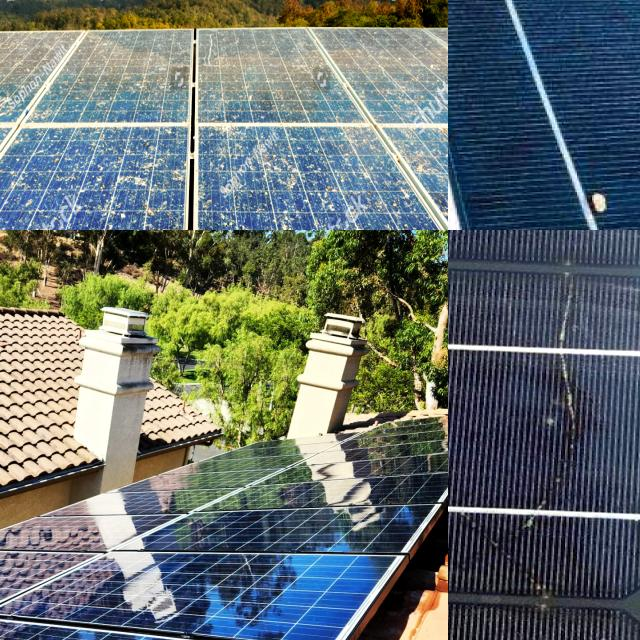bird: (126, 144, 186, 192), (341, 143, 386, 202), (259, 147, 312, 188), (404, 133, 447, 182), (2, 159, 48, 202), (0, 148, 36, 200), (68, 140, 109, 183), (206, 134, 240, 182), (240, 208, 281, 230), (140, 209, 177, 230)
crack: (102, 555, 366, 640), (148, 501, 426, 555), (198, 483, 444, 516), (0, 514, 183, 552), (0, 543, 99, 613), (80, 485, 230, 521)
shadow: (515, 251, 605, 547), (448, 65, 505, 230)
